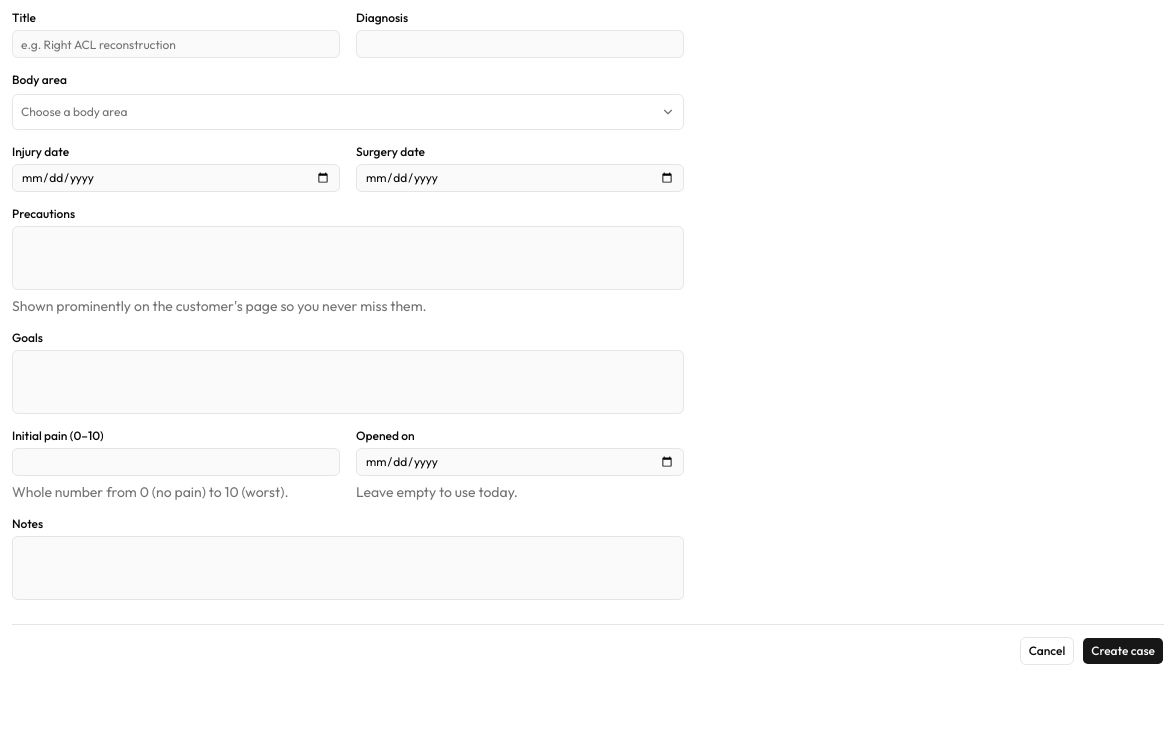
Test: CaseForm › shows the title-required error with aria-invalid and keeps typed values
Type "Sprain" into the field labelled "Diagnosis". click: (520, 44)
box: [356,30,684,58]
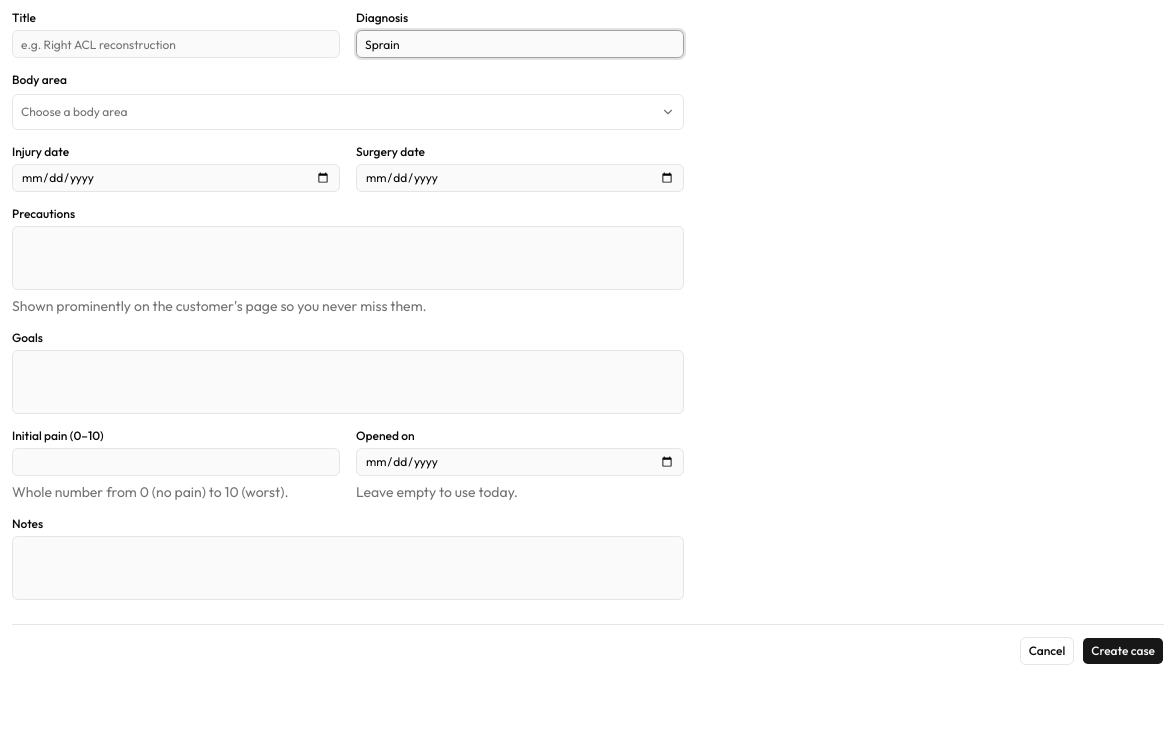
Click the button "Create case". click: (1123, 651)
box: [1082,637,1164,665]
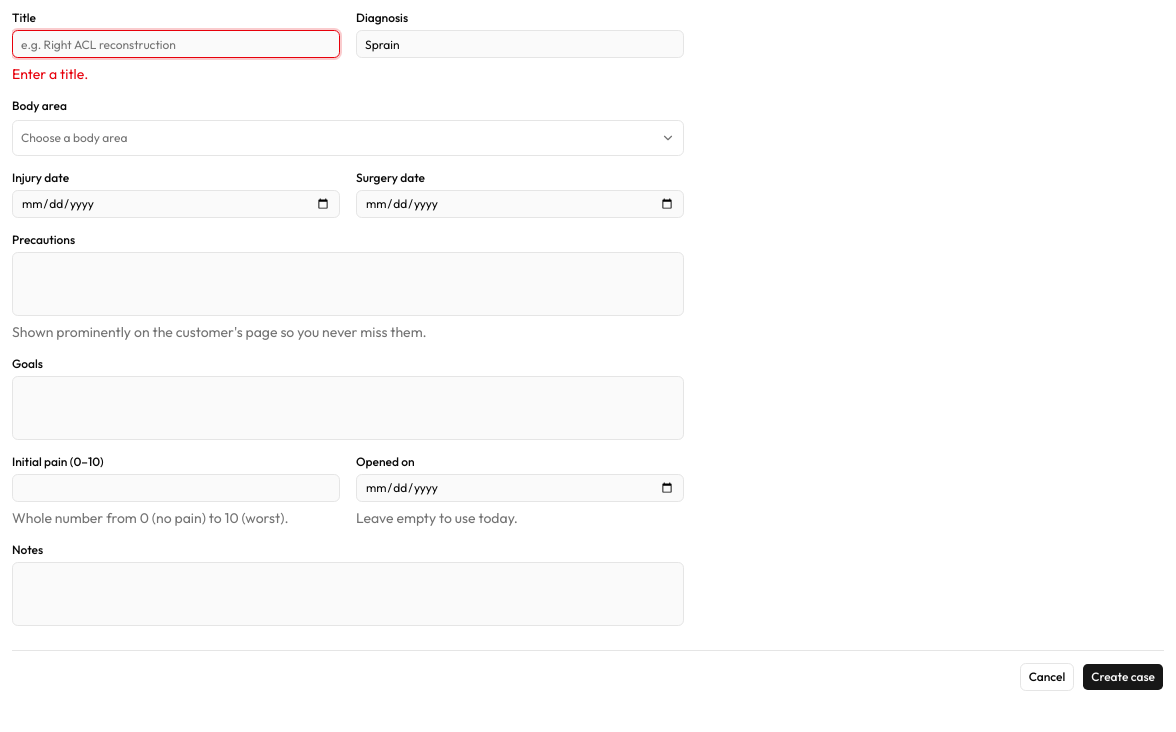
Check: the text "Enter a title." is shown, box [12,65,88,83]
